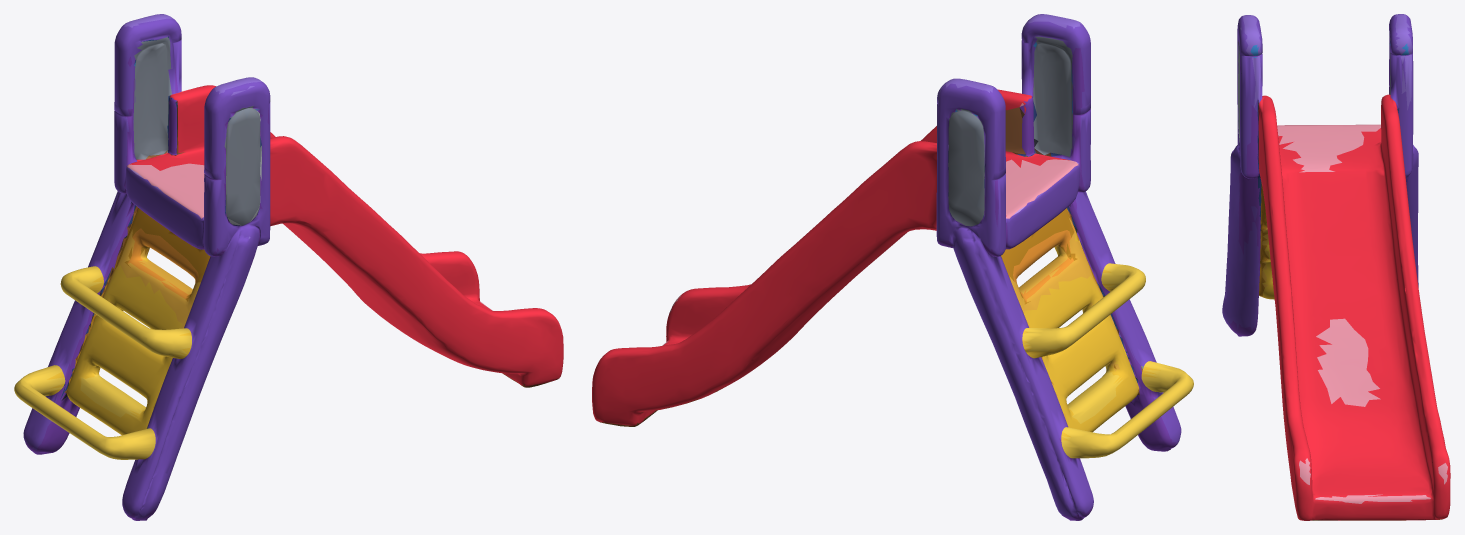
The model's file is SM_slide_kids.fbx.
3 renders of one model, left to right at view 1: azimuth 30°, elevation 25°; view 2: azimuth 150°, elevation 25°; view 3: azimuth 270°, elevation 25°, orthographic. The views are drawn at different scales.
Visible parts, largest first — view 1: SM_slide_kids; view 2: SM_slide_kids; view 3: SM_slide_kids.
Boxes of the visible parts, x1=… form: SM_slide_kids: x1=14, y1=14, x2=563, y2=520; SM_slide_kids: x1=592, y1=14, x2=1193, y2=520; SM_slide_kids: x1=1222, y1=14, x2=1450, y2=520.
Size of the model in its own units: 191 by 150 by 87.29.
1 material, 1 textured.
